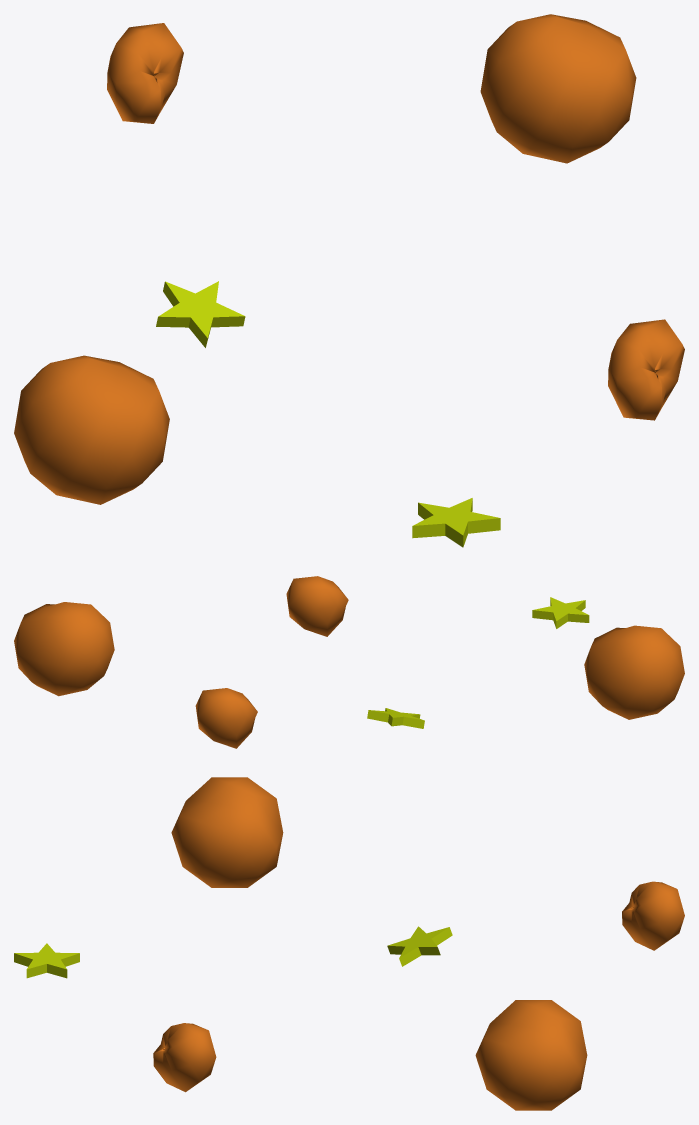
File: objetos.fbx
3 views of the same model, one above another, from view 1: azimuth 30°, elevation 25°; view 2: azimuth 150°, elevation 25°; view 3: azimuth 270°, elevation 25° (orthographic). The views are drawn at different scales.
Parts seen in each view (by area): view 1: pedra1.001, pedra1, pedra2, pedra2.001, Star.001, Star; view 2: pedra1, pedra1.001, pedra2.001, pedra2, Star, Star.001; view 3: pedra1.001, pedra1, pedra2, pedra2.001, Star, Star.001.
Part boxes in pixels (bbox=[...]): pedra1.001: bbox=[480, 14, 636, 163]; pedra1: bbox=[14, 355, 169, 504]; pedra2: bbox=[608, 319, 684, 420]; pedra2.001: bbox=[107, 23, 183, 123]; Star.001: bbox=[156, 281, 245, 347]; Star: bbox=[412, 498, 500, 547]; pedra1: bbox=[584, 625, 684, 719]; pedra1.001: bbox=[14, 602, 114, 696]; pedra2.001: bbox=[195, 688, 257, 748]; pedra2: bbox=[286, 576, 348, 636]; Star: bbox=[532, 597, 589, 628]; Star.001: bbox=[367, 708, 424, 728]; pedra1.001: bbox=[475, 1000, 587, 1110]; pedra1: bbox=[171, 777, 283, 887]; pedra2: bbox=[153, 1023, 216, 1092]; pedra2.001: bbox=[622, 881, 684, 950]; Star: bbox=[14, 943, 79, 978]; Star.001: bbox=[387, 926, 452, 966].
Size of the model in its own units: 0.2838 by 0.0651 by 0.2801.
